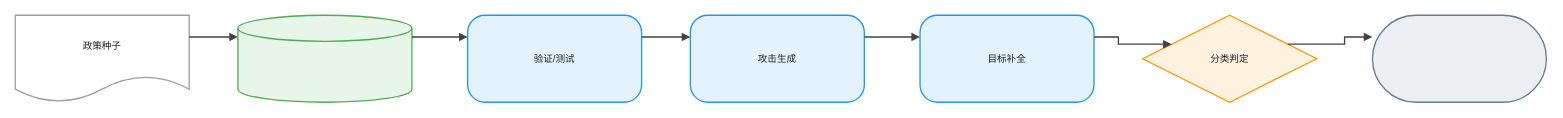
The diagram is 1563 pixels wide and 118 high, and some of its shapes have lost their labels. The centre of each missing label's shape, as x and y in pixels:
510行为: point (324, 58)
ASR报告: point (1459, 58)
